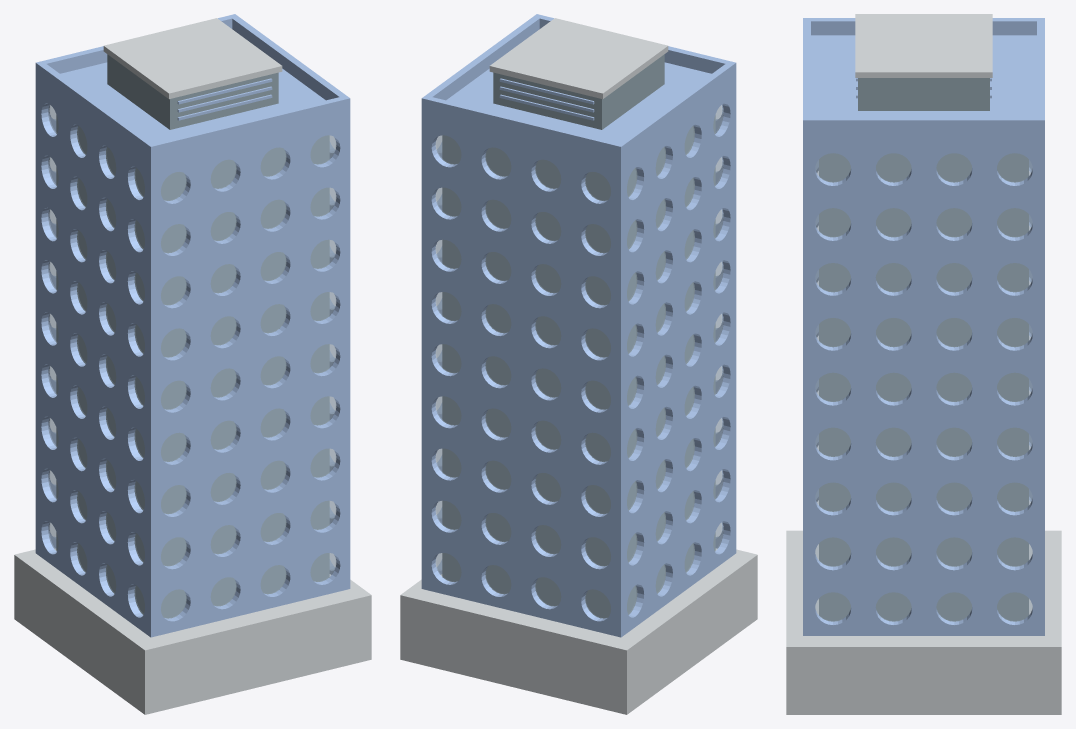
Rendered from jardine-house.glb.
3 renders of one model, left to right at view 1: azimuth 30°, elevation 25°; view 2: azimuth 150°, elevation 25°; view 3: azimuth 270°, elevation 25°, orthographic. The views are drawn at different scales.
Parts seen in each view (by area): view 1: Jardine podium, Jardine internal office core, Jardine screened services plant roof, Jardine flat roof, Jardine screened services plant enclosure, Jardine roof parapet.002, Jardine roof parapet.001, Jardine perforated silver facade.083, Jardine perforated silver facade.073, Jardine perforated silver facade.103, Jardine perforated silver facade.086, Jardine perforated silver facade.085 (+95 smaller); view 2: Jardine podium, Jardine internal office core, Jardine screened services plant roof, Jardine flat roof, Jardine screened services plant enclosure, Jardine roof parapet, Jardine roof parapet.001, Jardine perforated silver facade.116, Jardine perforated silver facade.110, Jardine perforated silver facade.136, Jardine perforated silver facade.121, Jardine perforated silver facade.122 (+95 smaller); view 3: Jardine internal office core, Jardine podium, Jardine flat roof, Jardine screened services plant roof, Jardine screened services plant enclosure, Jardine roof parapet.003, Jardine perforated silver facade.009, Jardine perforated silver facade.010, Jardine perforated silver facade.004, Jardine perforated silver facade.005, Jardine perforated silver facade.006, Jardine perforated silver facade.007 (+69 smaller).
Part boxes in pixels (bbox=[...]): Jardine podium: bbox=[14, 548, 371, 714]; Jardine internal office core: bbox=[56, 115, 329, 618]; Jardine screened services plant roof: bbox=[103, 18, 282, 99]; Jardine flat roof: bbox=[35, 62, 350, 167]; Jardine screened services plant enclosure: bbox=[107, 54, 278, 129]; Jardine roof parapet.002: bbox=[147, 95, 350, 159]; Jardine roof parapet.001: bbox=[39, 64, 153, 156]; Jardine perforated silver facade.083: bbox=[300, 432, 350, 496]; Jardine perforated silver facade.073: bbox=[200, 561, 250, 625]; Jardine perforated silver facade.103: bbox=[300, 171, 350, 235]; Jardine perforated silver facade.086: bbox=[250, 392, 300, 456]; Jardine perforated silver facade.085: bbox=[200, 404, 250, 468]; Jardine podium: bbox=[400, 548, 757, 714]; Jardine internal office core: bbox=[442, 115, 715, 618]; Jardine screened services plant roof: bbox=[489, 18, 668, 99]; Jardine flat roof: bbox=[421, 62, 736, 167]; Jardine screened services plant enclosure: bbox=[493, 54, 664, 129]; Jardine roof parapet: bbox=[421, 95, 624, 159]; Jardine roof parapet.001: bbox=[618, 64, 732, 156]; Jardine perforated silver facade.116: bbox=[421, 432, 471, 496]; Jardine perforated silver facade.110: bbox=[521, 561, 571, 625]; Jardine perforated silver facade.136: bbox=[421, 171, 471, 235]; Jardine perforated silver facade.121: bbox=[471, 392, 521, 456]; Jardine perforated silver facade.122: bbox=[521, 404, 571, 468]; Jardine internal office core: bbox=[819, 153, 1028, 621]; Jardine podium: bbox=[786, 530, 1061, 714]; Jardine flat roof: bbox=[803, 35, 1044, 142]; Jardine screened services plant roof: bbox=[855, 14, 992, 77]; Jardine screened services plant enclosure: bbox=[858, 78, 989, 110]; Jardine roof parapet.003: bbox=[811, 116, 1036, 134]; Jardine perforated silver facade.009: bbox=[863, 471, 923, 526]; Jardine perforated silver facade.010: bbox=[924, 471, 984, 526]; Jardine perforated silver facade.004: bbox=[803, 526, 863, 581]; Jardine perforated silver facade.005: bbox=[863, 526, 923, 581]; Jardine perforated silver facade.006: bbox=[924, 526, 984, 581]; Jardine perforated silver facade.007: bbox=[984, 526, 1044, 581].
Size of the model in its own units: 2.5 by 6.15 by 2.5.
